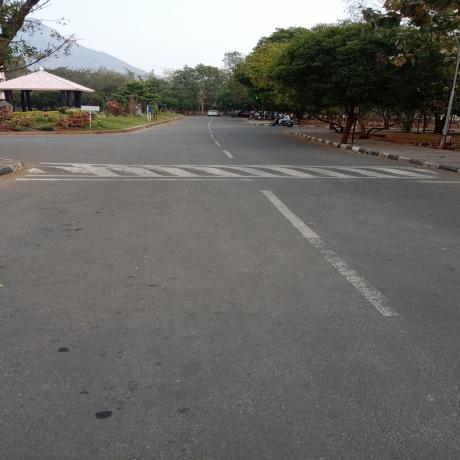Speed Bump: (16, 162, 438, 176)
